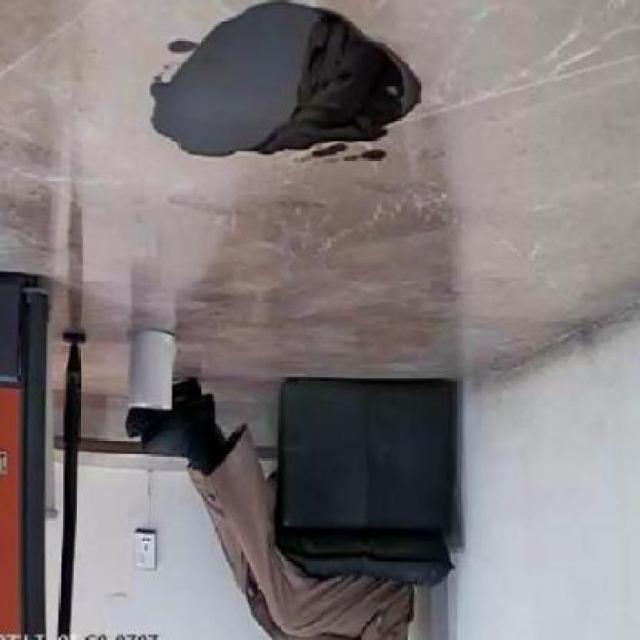spillage: (141, 3, 431, 160)
